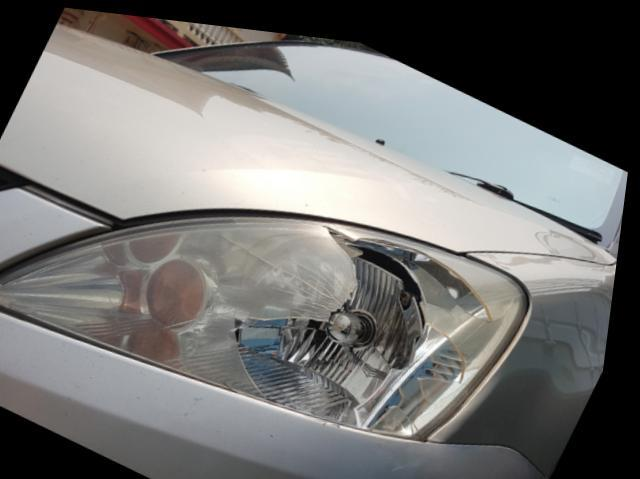lamp broken: (0, 206, 533, 428)
